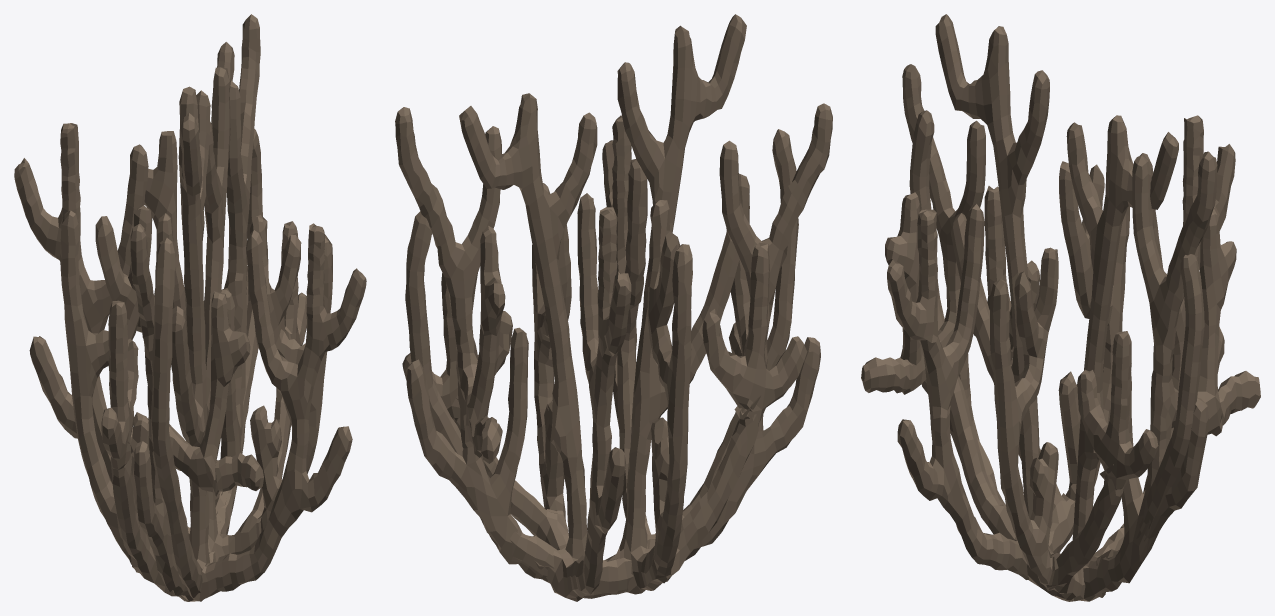
File: dead_bush_1.fbx
3 renders of one model, left to right at view 1: azimuth 30°, elevation 25°; view 2: azimuth 150°, elevation 25°; view 3: azimuth 270°, elevation 25°, orthographic. The views are drawn at different scales.
Visible parts, largest first — view 1: Plane; view 2: Plane; view 3: Plane.
Boxes of the visible parts, x1,y1,x2,y2 form: Plane: [14, 14, 366, 601]; Plane: [395, 14, 832, 601]; Plane: [861, 14, 1260, 601].
Bounding box in the file's own units: 26.08 × 45.08 × 29.72.
